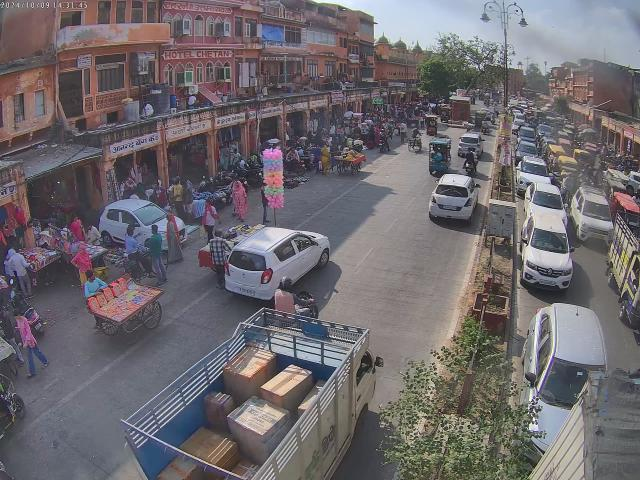auto: (428, 133, 450, 172), (424, 114, 438, 136)
car: (530, 302, 610, 414), (221, 226, 332, 304), (98, 196, 178, 258), (518, 213, 574, 294), (428, 173, 481, 224), (572, 188, 612, 245), (524, 180, 566, 221), (458, 132, 484, 158)
helmet: (265, 139, 280, 150)
license_plate: (238, 288, 254, 296), (540, 280, 556, 286), (592, 234, 604, 240), (444, 205, 457, 210)
lorry: (126, 310, 384, 480)
motorbike-rider: (375, 132, 391, 153)
person: (190, 194, 220, 240), (229, 177, 250, 219), (67, 214, 86, 242)
rickshow: (408, 128, 422, 154)
scooty-rider: (462, 152, 479, 176)
vendor: (91, 283, 164, 341), (336, 148, 364, 176)
